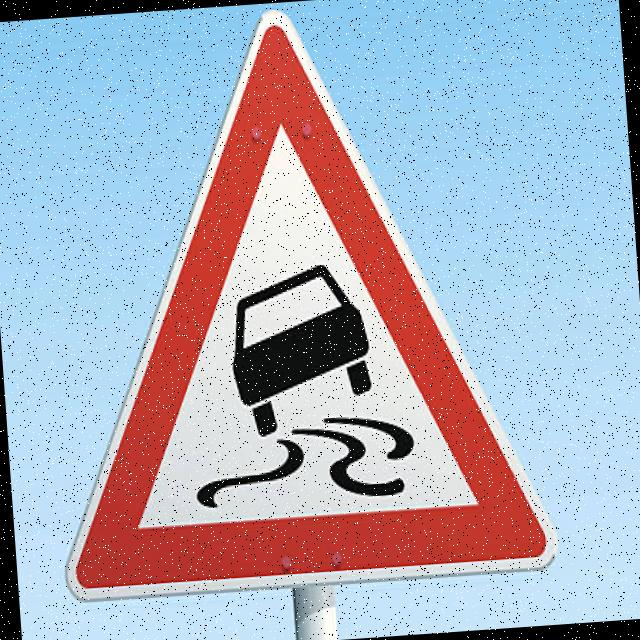road_slippery: (26, 0, 557, 607)
